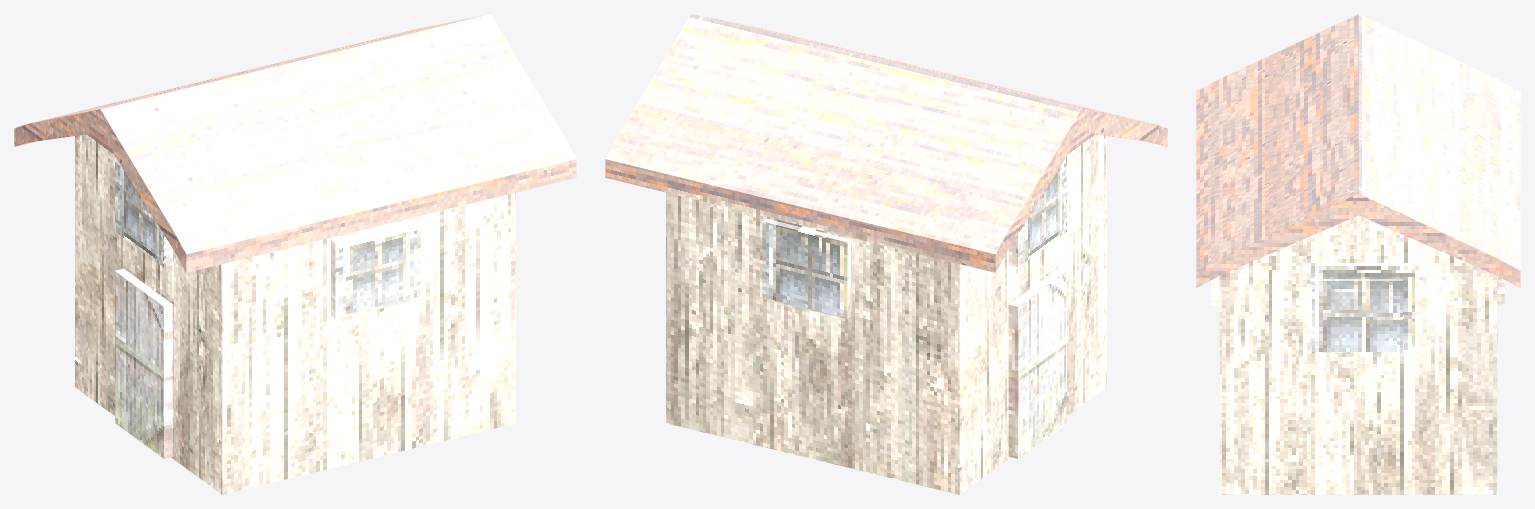
File: House_Var2.glb
3 renders of one model, left to right at view 1: azimuth 30°, elevation 25°; view 2: azimuth 150°, elevation 25°; view 3: azimuth 270°, elevation 25°, orthographic. The views are drawn at different scales.
Visible parts, largest first — view 1: House_Variant_2; view 2: House_Variant_2; view 3: House_Variant_2.
Boxes of the visible parts, x1,y1,x2,y2 form: House_Variant_2: (14,14,576,494); House_Variant_2: (605,14,1167,494); House_Variant_2: (1196,14,1520,494).
Size of the model in its own units: 6.15 by 5.18 by 4.7.
